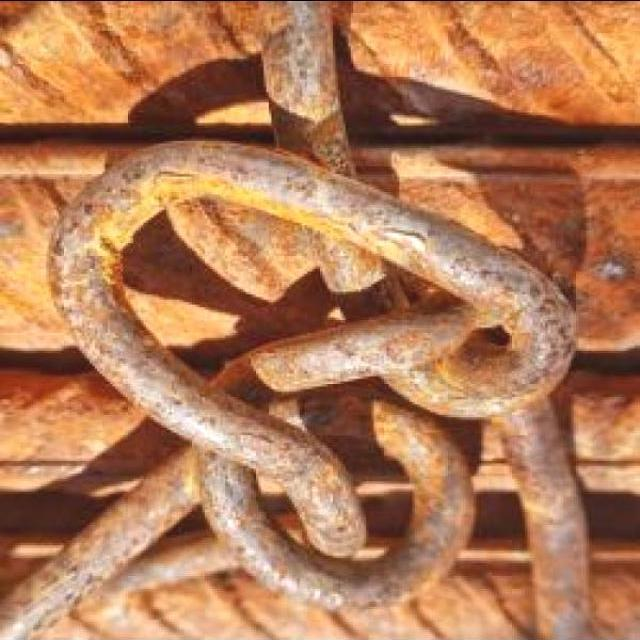corrosion: (19, 8, 640, 640), (21, 135, 600, 636)
